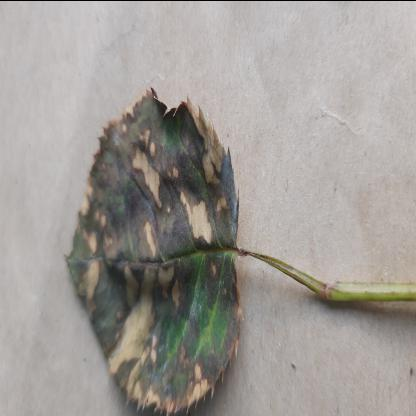powdery-mildew: (65, 81, 241, 414)
